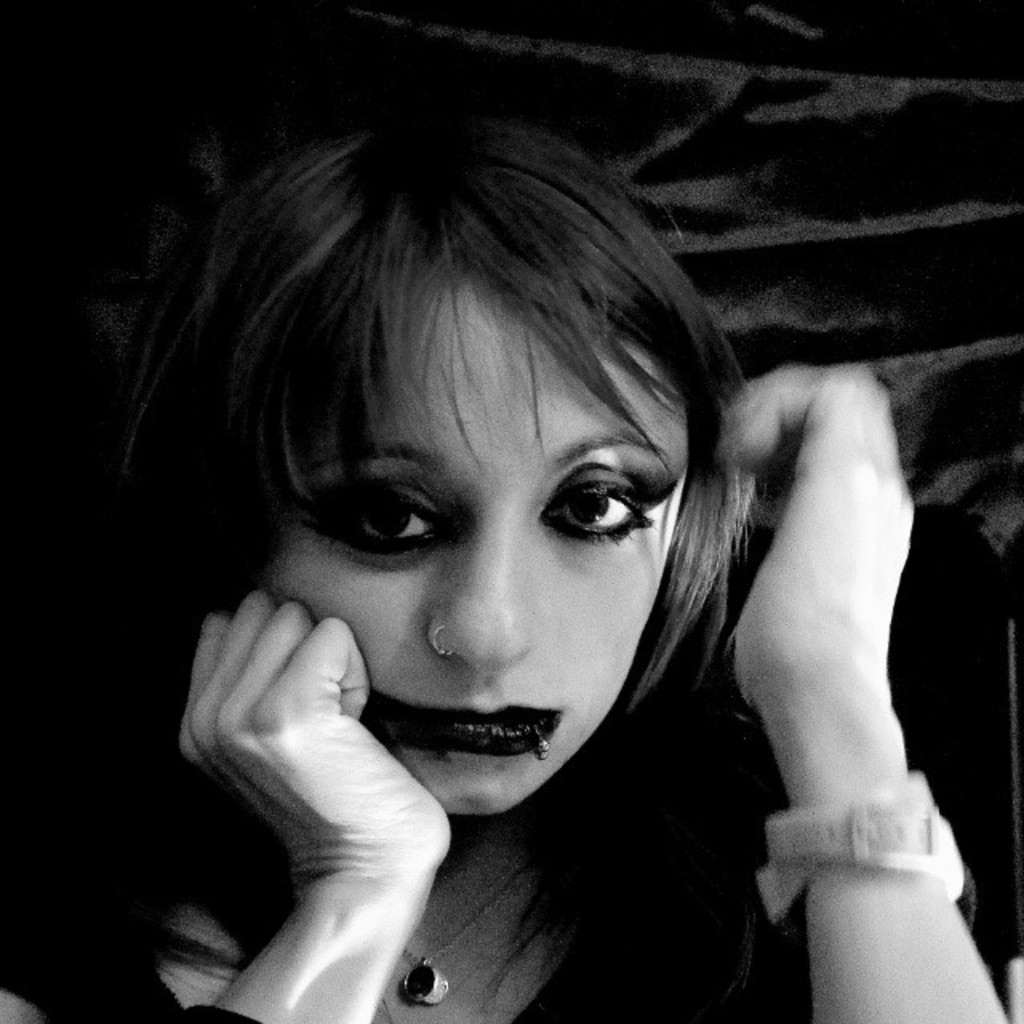Human_hand: (178, 570, 445, 904), (731, 366, 915, 704)
